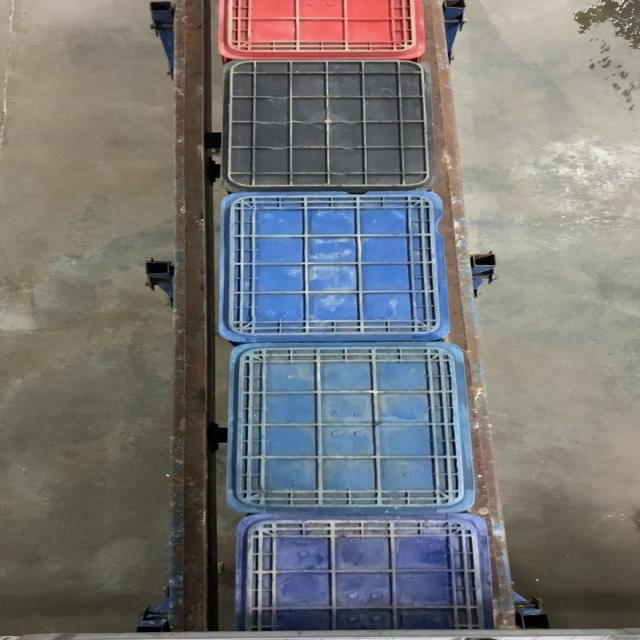Box: (232, 342, 476, 512), (225, 196, 455, 340), (230, 60, 436, 193)
